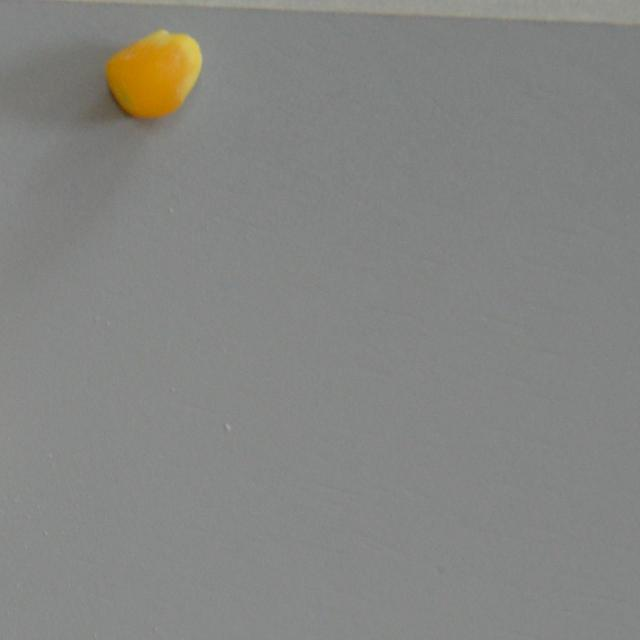pelicula: (102, 28, 203, 119)
